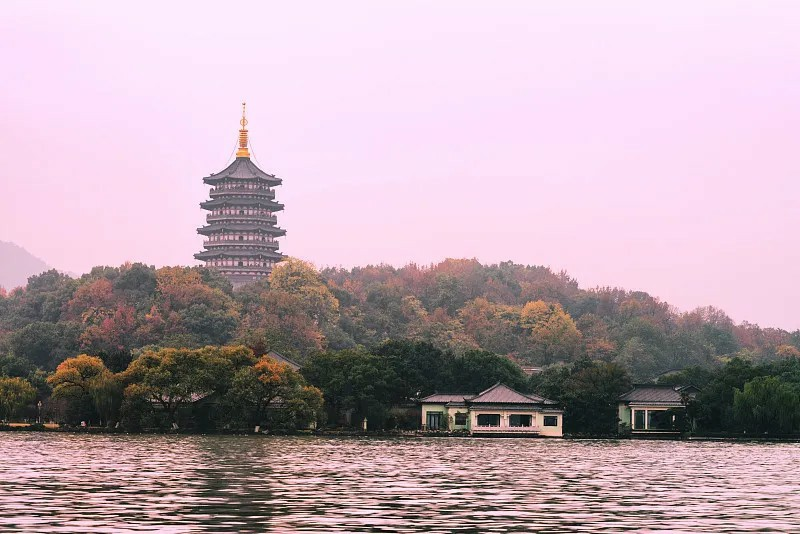Leifeng: (193, 103, 291, 292)
